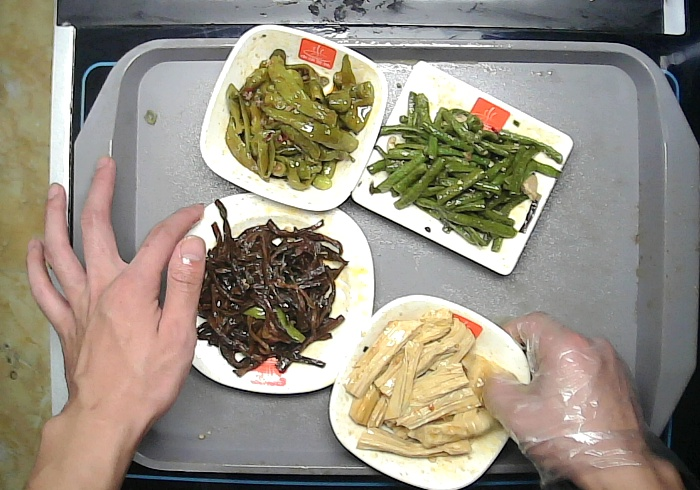SHKJ-Bai_Se_Cai_Die: (327, 292, 533, 490)
SHKJ-Bai_Se_Si_Fang_Cai_Die: (190, 190, 377, 396)
SHKJ-Bai_Se_Xiao_Fang_Die: (198, 21, 391, 212)
SHKJ-Si_Fang_Min: (350, 58, 576, 276)
